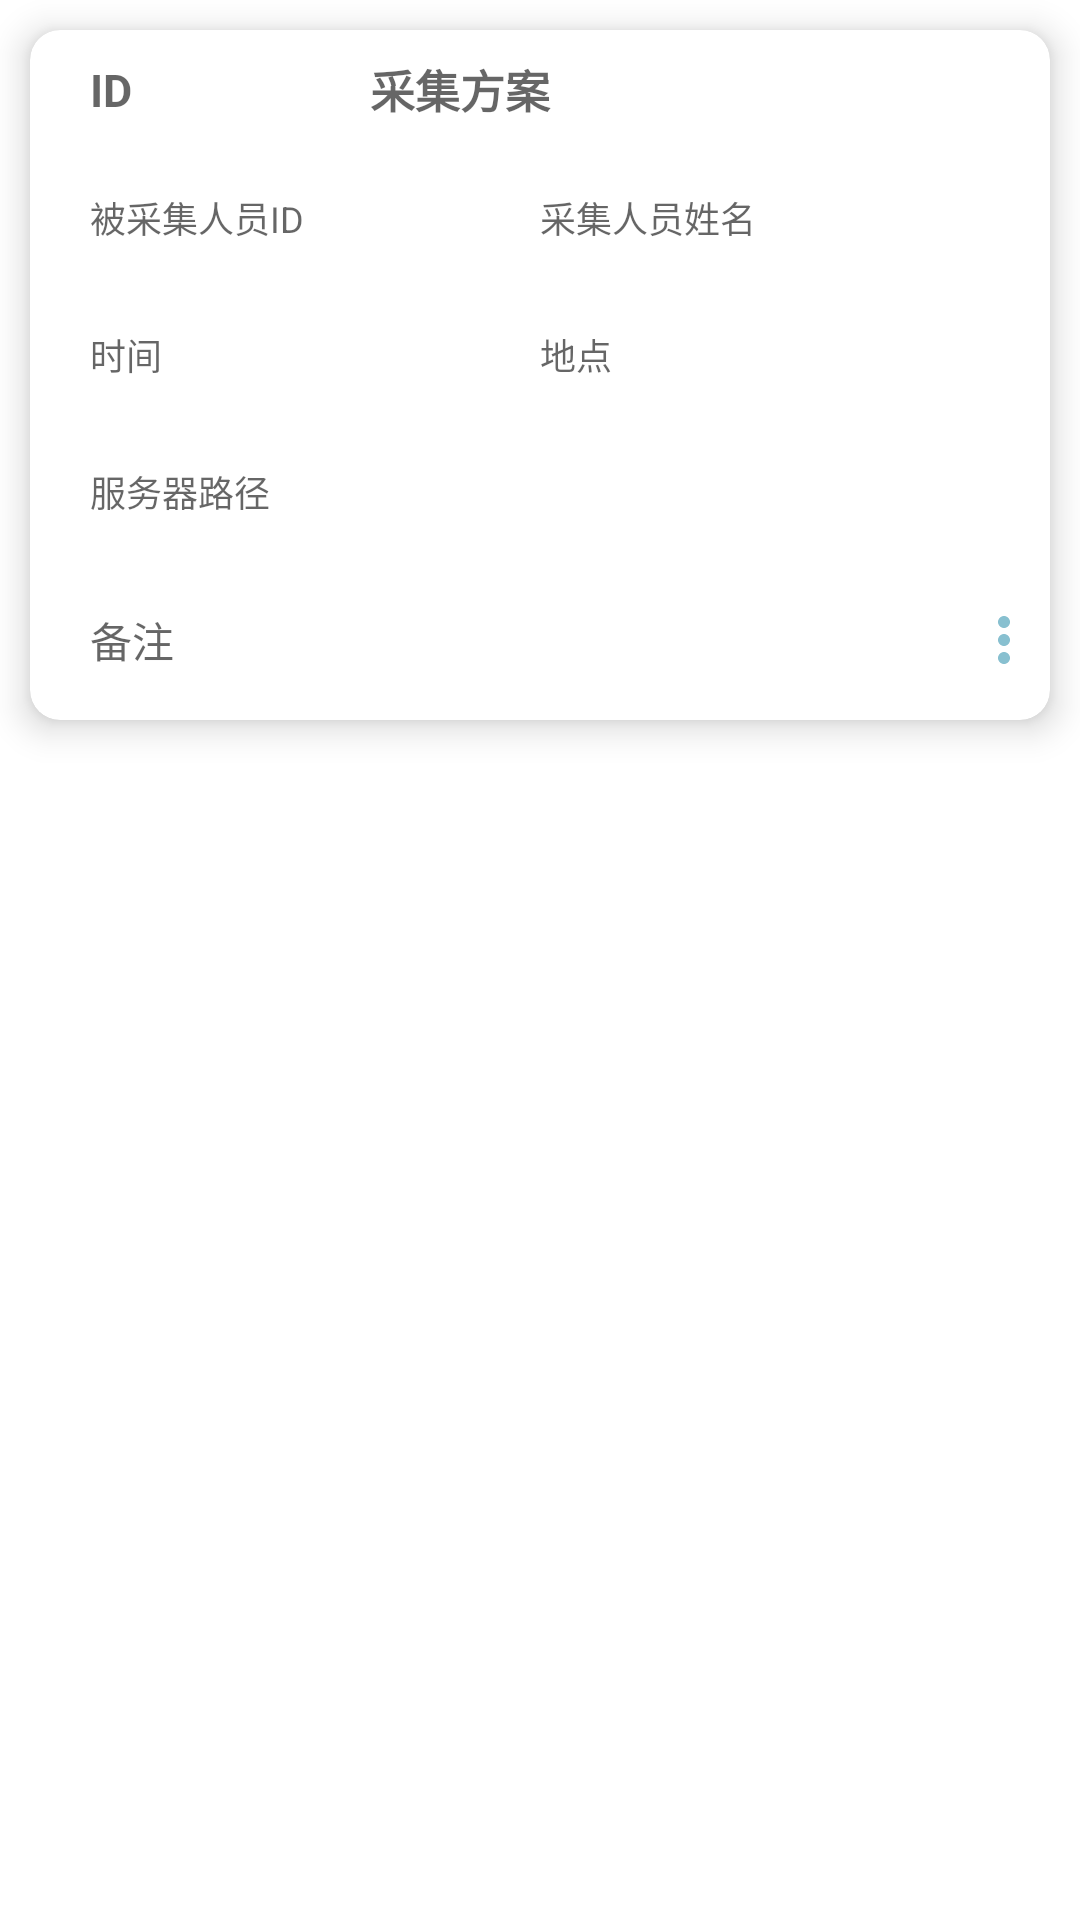

Icons on this 1080 x 1920 Android screen, each with its box as bbox(x1, y1, x2, y2):
更多: bbox(998, 616, 1010, 664)
